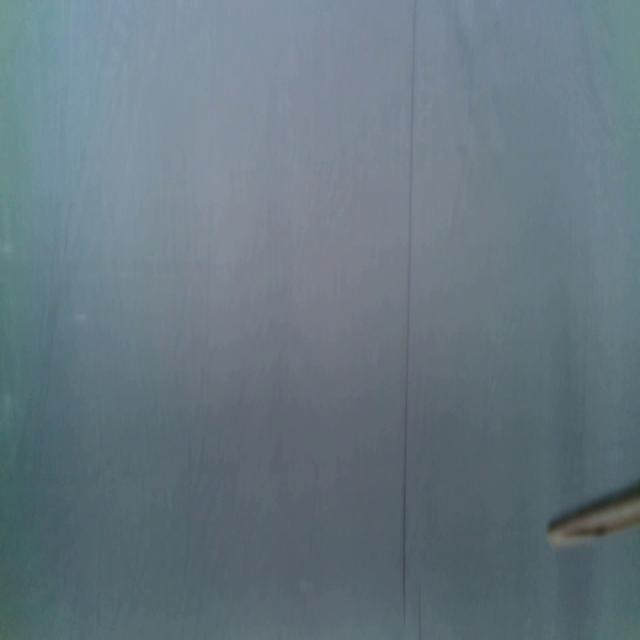crease: (400, 0, 418, 624)
